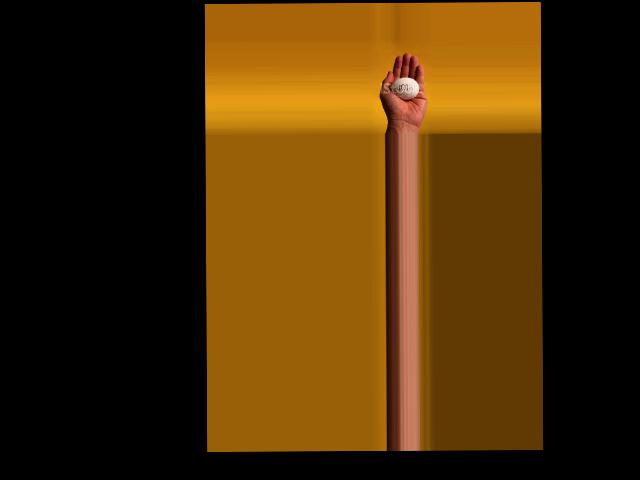egg: (390, 77, 419, 99)
